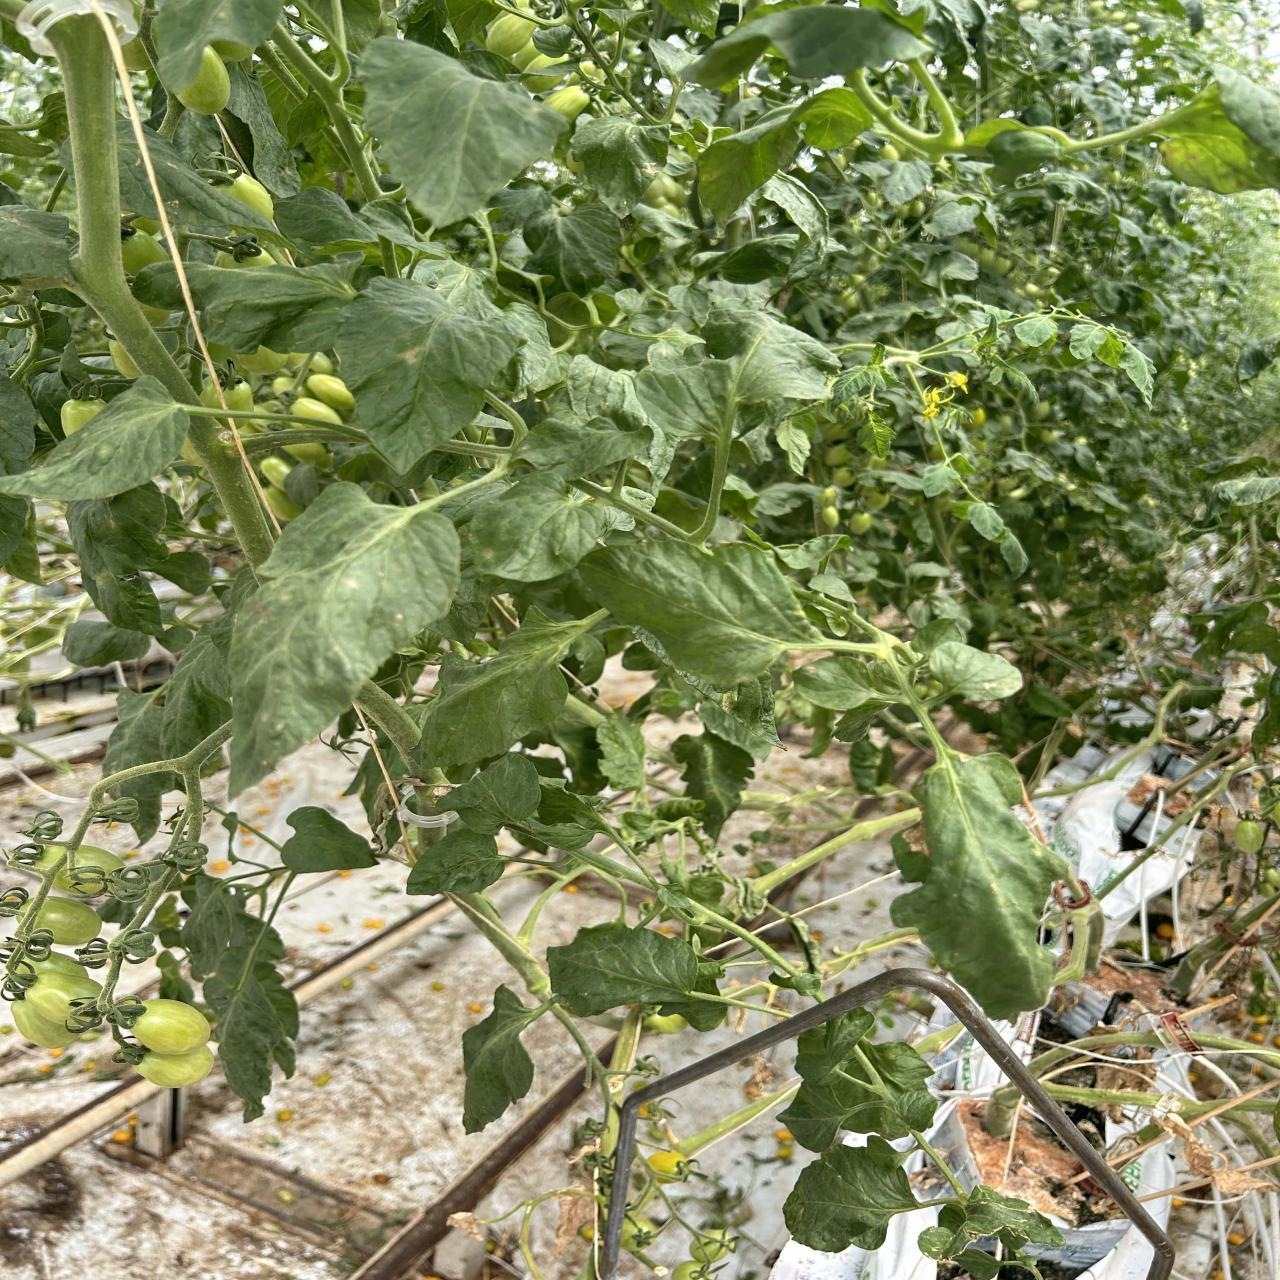Hoja: (229, 483, 461, 796), (892, 748, 1068, 1020), (777, 1008, 941, 1250), (360, 38, 568, 227), (578, 539, 821, 688), (334, 279, 519, 472), (422, 617, 587, 767), (547, 921, 726, 1030), (463, 985, 543, 1133), (411, 259, 501, 319)
Hoja rugoso: (0, 376, 189, 502)
Pedunculo: (49, 16, 199, 402), (183, 413, 274, 566), (352, 680, 421, 753)
Tomate: (20, 843, 123, 896), (132, 999, 210, 1054), (177, 47, 230, 115), (137, 1044, 213, 1088), (35, 896, 101, 945), (11, 1000, 75, 1048), (227, 173, 273, 219), (61, 399, 105, 437)
